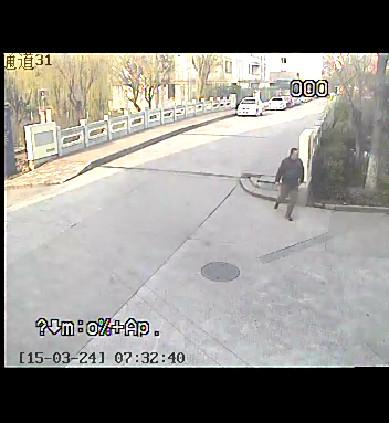person: (269, 138, 309, 223)
